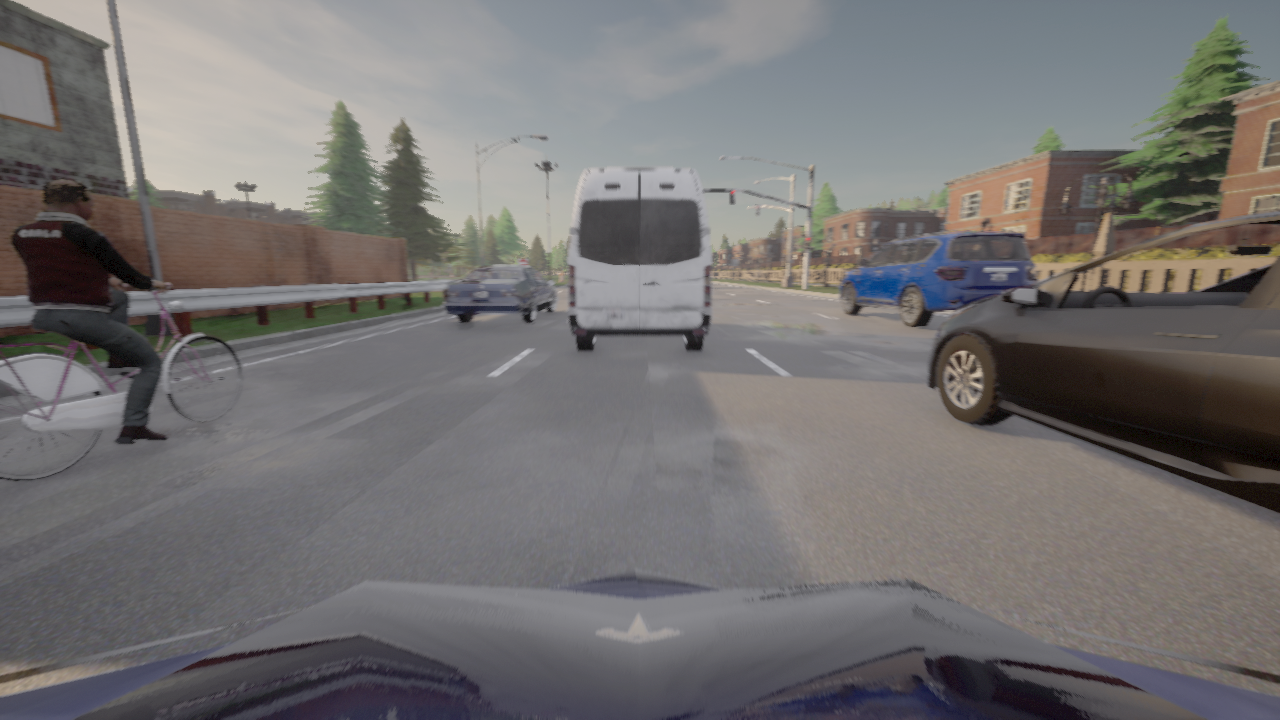cyclist: (0, 569, 1279, 719), (927, 211, 1279, 513), (0, 284, 242, 481), (567, 167, 712, 351), (839, 232, 1038, 327), (443, 266, 558, 322)
